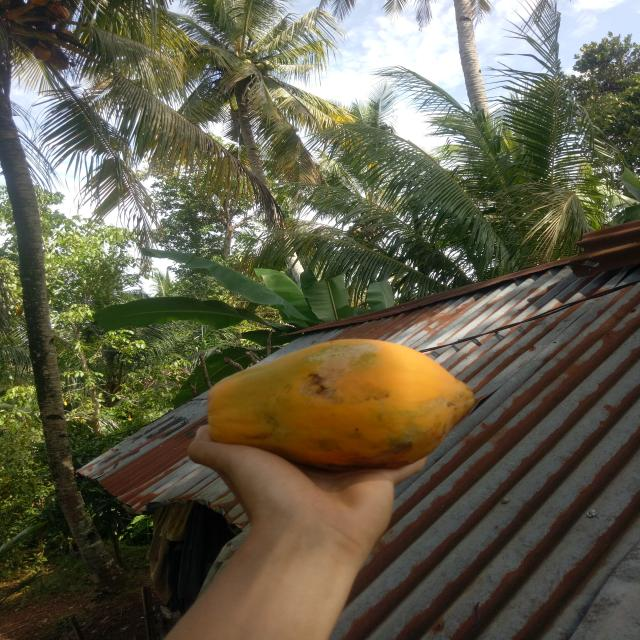Pepaya rippen: (180, 342, 488, 464)
